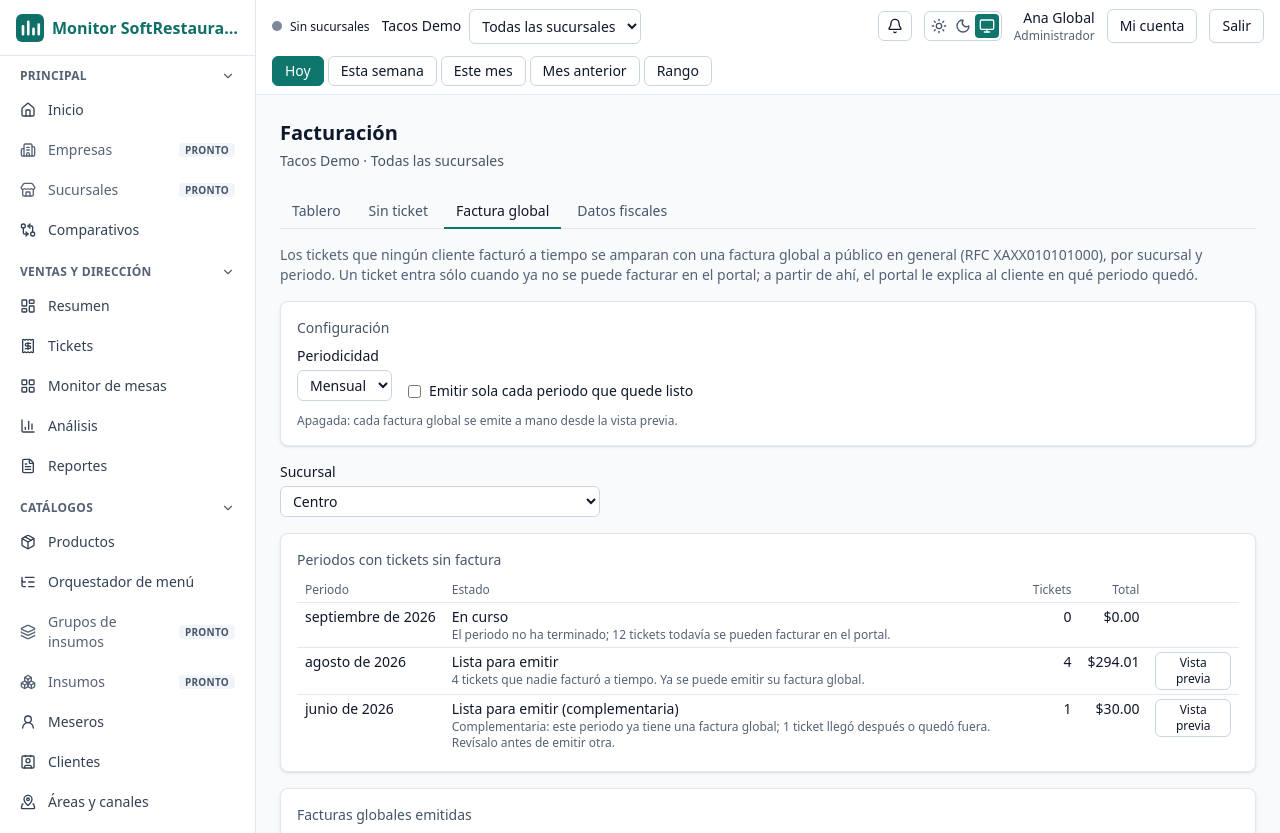
Scenario: factura global (F2-108) › la configuración guarda periodicidad y automática, y muestra el aviso de la vigencia
This screenshot has width=1280, height=833.
expect the text "agosto de 2026" is shown: met, box [297,648,444,694]
Click the checkbox labelled "Emitir sola cada periodo que quede listo" at (414, 391), box [408,384,421,398]
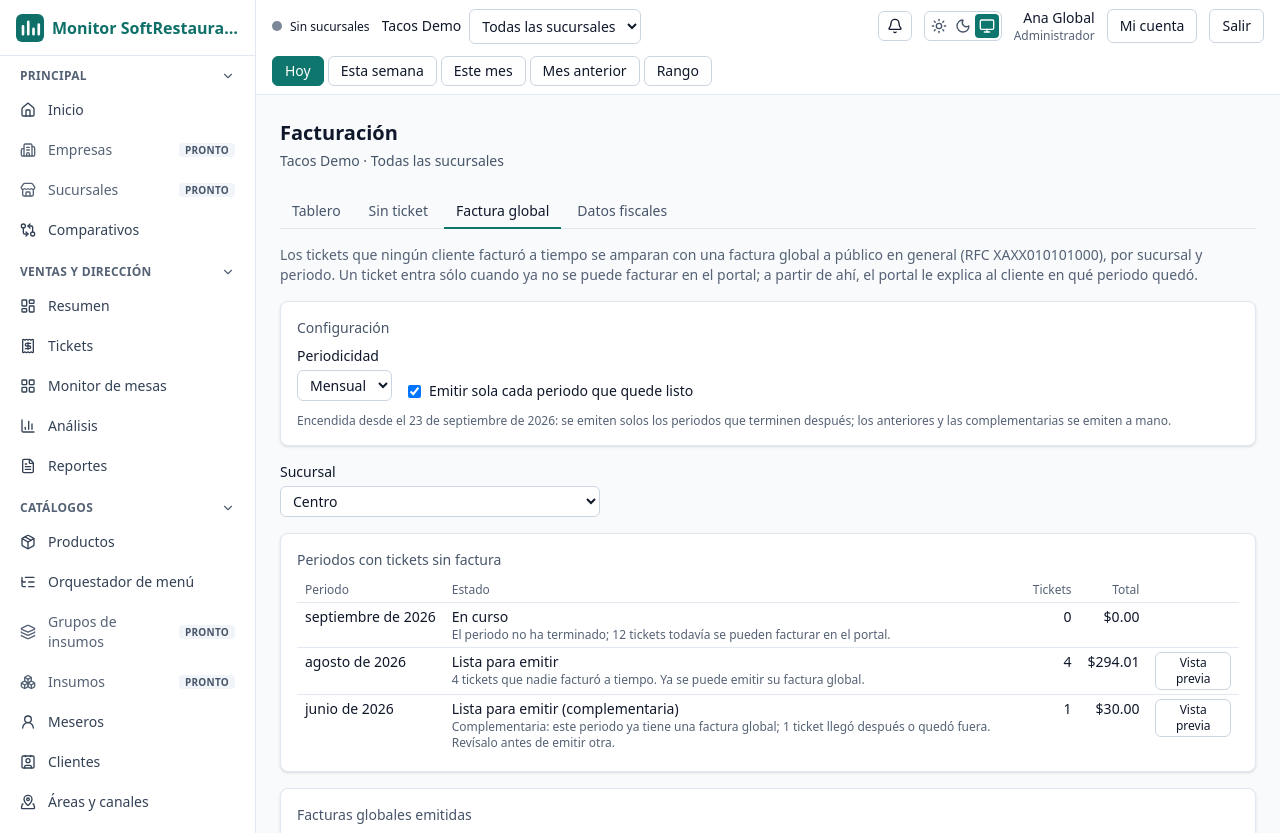
expect the text "Encendida desde el 23 de septiembre de 2026" is shown: met, box [297,412,1171,429]
Select "Semanal" in the dropdown labelled "Periodicidad" at (344, 386), box [297,370,392,401]
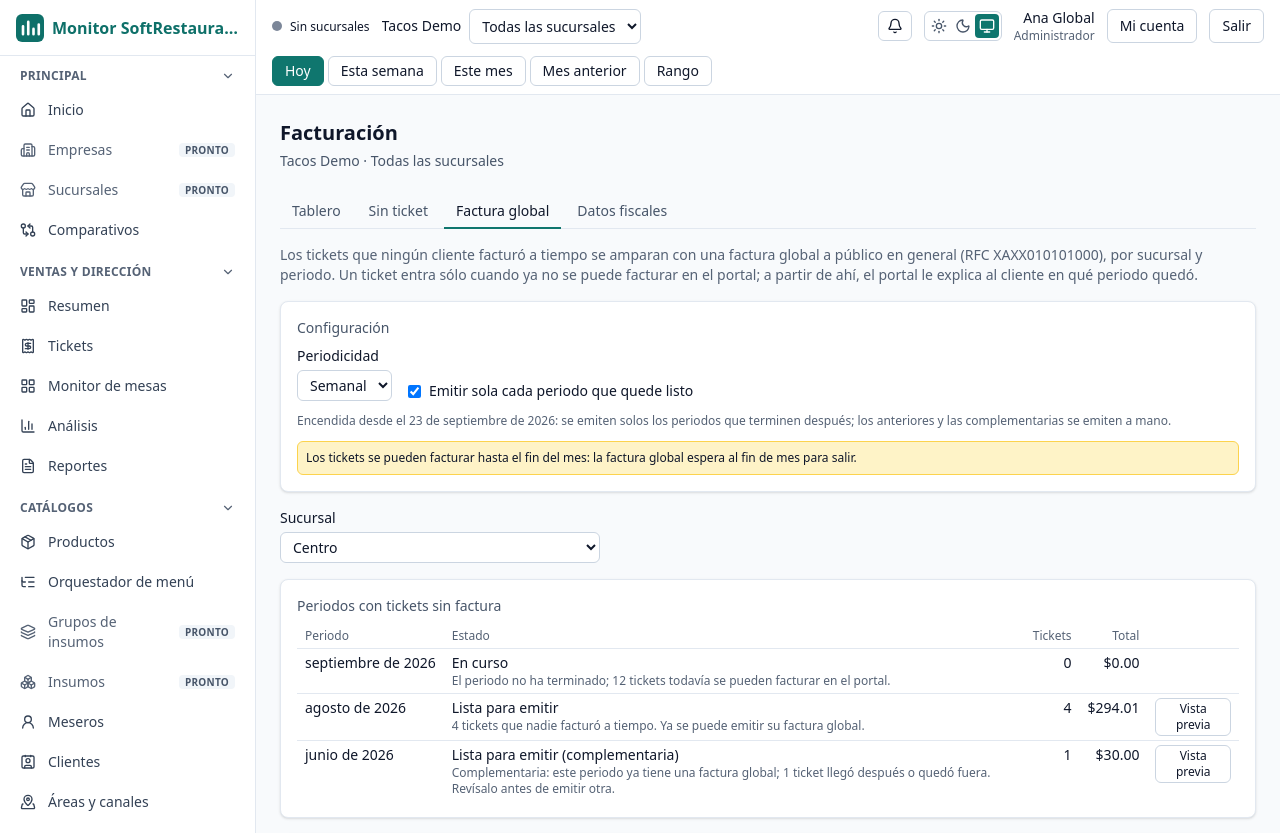
expect the text "espera al fin de mes" is shown: met, box [306,449,857,466]
